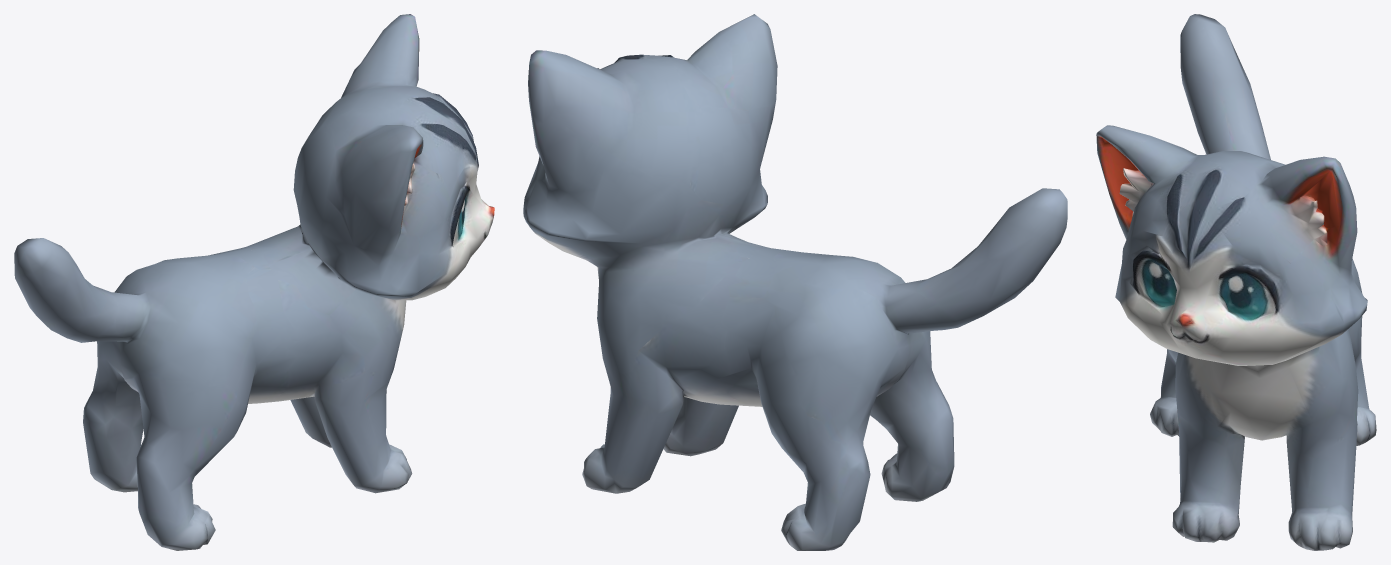
File: wen-4-lo.glb
The picture shows the model from 3 angles, left to right: view 1: azimuth 30°, elevation 25°; view 2: azimuth 150°, elevation 25°; view 3: azimuth 270°, elevation 25°; orthographic projection. The views are drawn at different scales.
Visible parts, largest first — view 1: tripo_node_4d6ccac7-1054-4a8b-8b77-85756e7afac2; view 2: tripo_node_4d6ccac7-1054-4a8b-8b77-85756e7afac2; view 3: tripo_node_4d6ccac7-1054-4a8b-8b77-85756e7afac2.
Boxes of the visible parts, x1,y1,x2,y2 form: tripo_node_4d6ccac7-1054-4a8b-8b77-85756e7afac2: (14, 14, 494, 550); tripo_node_4d6ccac7-1054-4a8b-8b77-85756e7afac2: (523, 14, 1067, 550); tripo_node_4d6ccac7-1054-4a8b-8b77-85756e7afac2: (1096, 14, 1376, 550).
Bounding box in the file's own units: 1.23 × 0.9972 × 0.604.
Materials: 1 (1 with a texture image).
